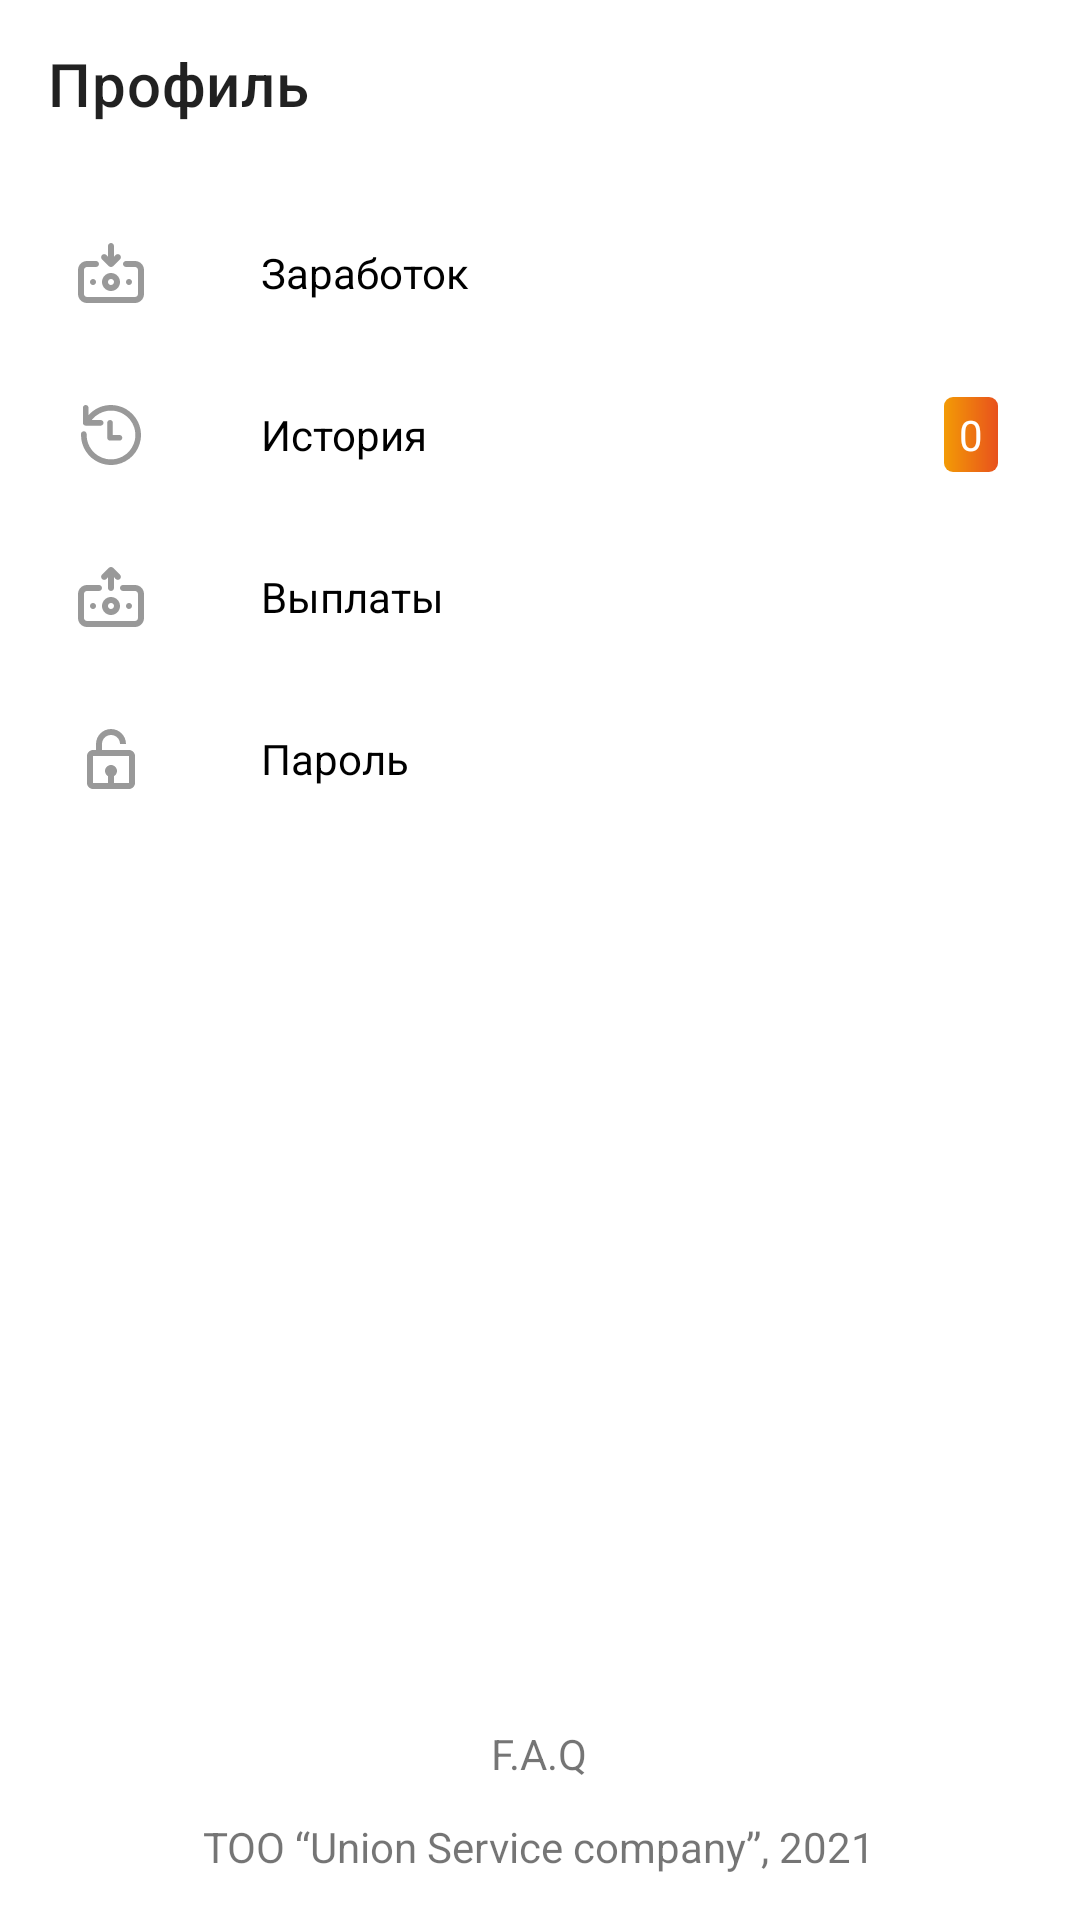

Named icons in this screenshot (1080px×1920px) and their centers, [x,y]:
earnings: [111,273]
history: [111,435]
password: [111,759]
payments: [111,597]
